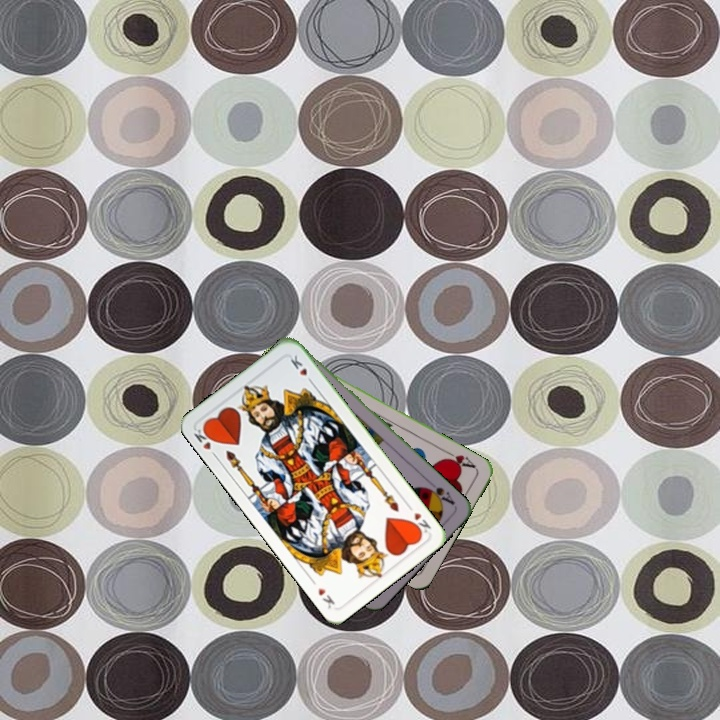HA: (440, 446, 478, 471)
HK: (403, 500, 434, 537), (190, 421, 218, 452)
SA: (421, 477, 458, 508)
